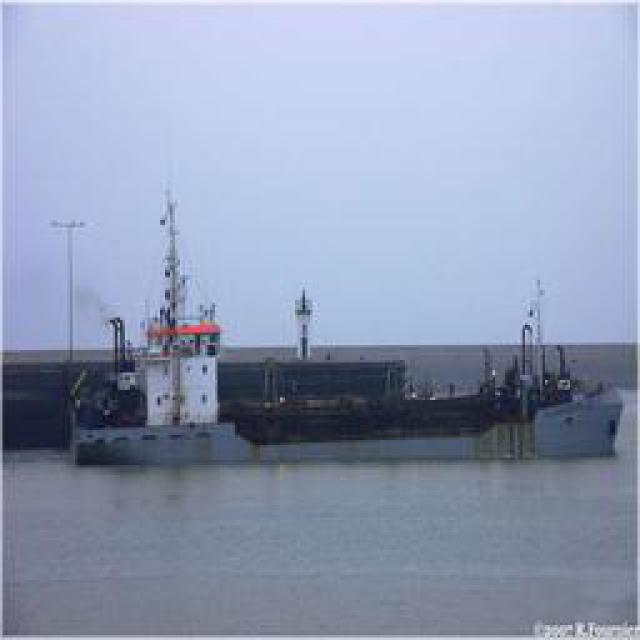Ship: (61, 172, 624, 472)
